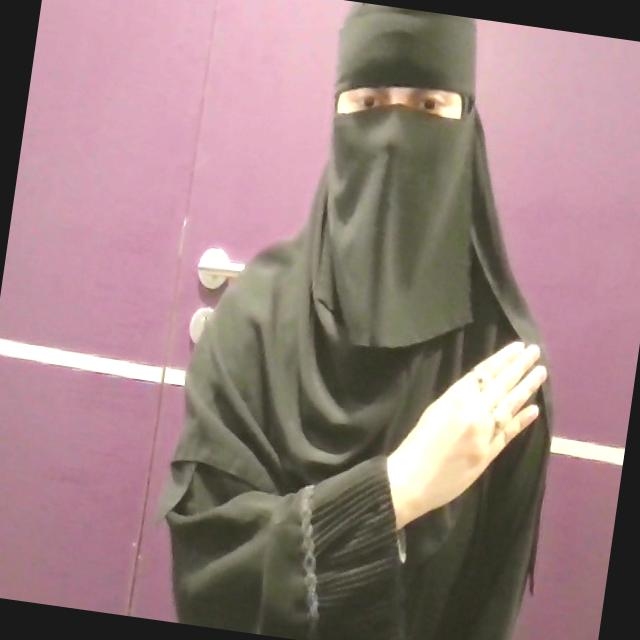result: (377, 322, 553, 548)
